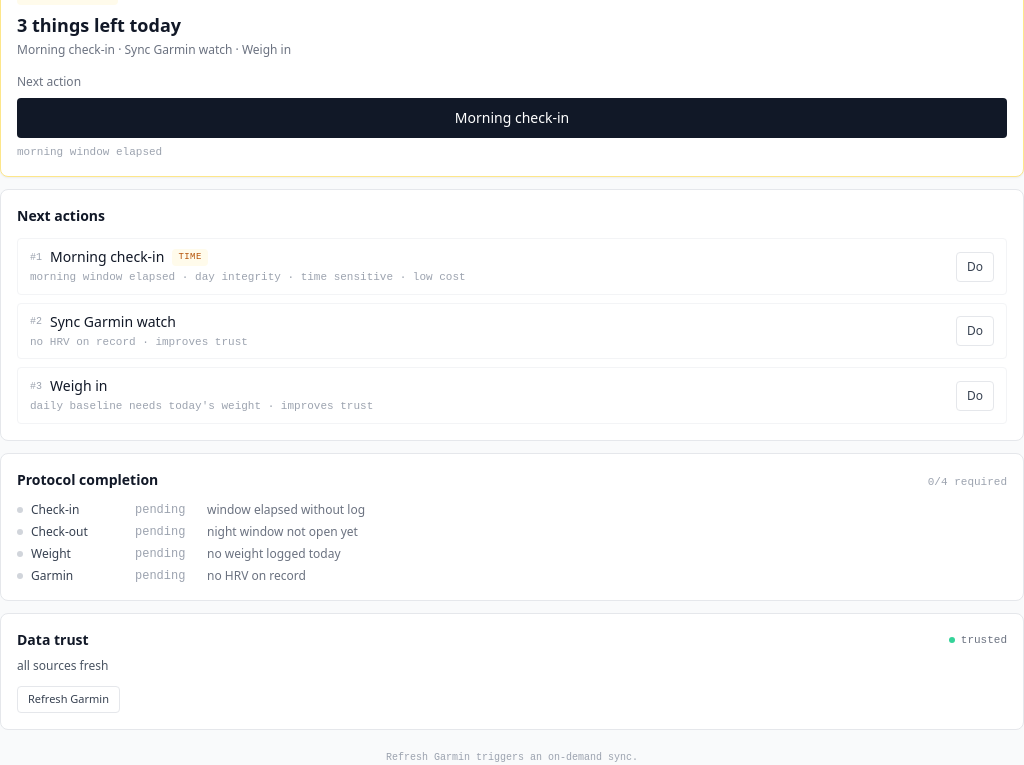
Test case: Garmin sync UI flow › no_new_data → shows "no new data" note and still invalidates (run did execute)
(page scrolled)
Expected: the element with test id "today-trust" is shown, [0,613,1023,730]
Click the button "Refresh Garmin" at x=68, y=700, box [17,686,120,713]
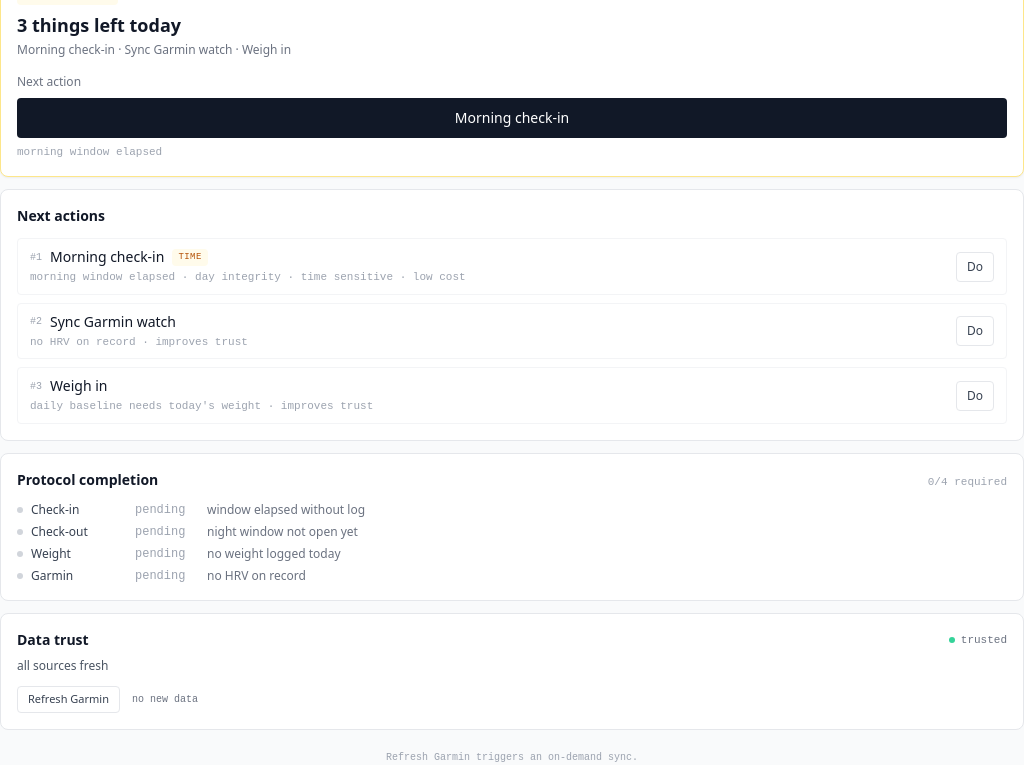
Now the text with test id "garmin-sync-note" reads "no new data", box [132,694,198,705]
